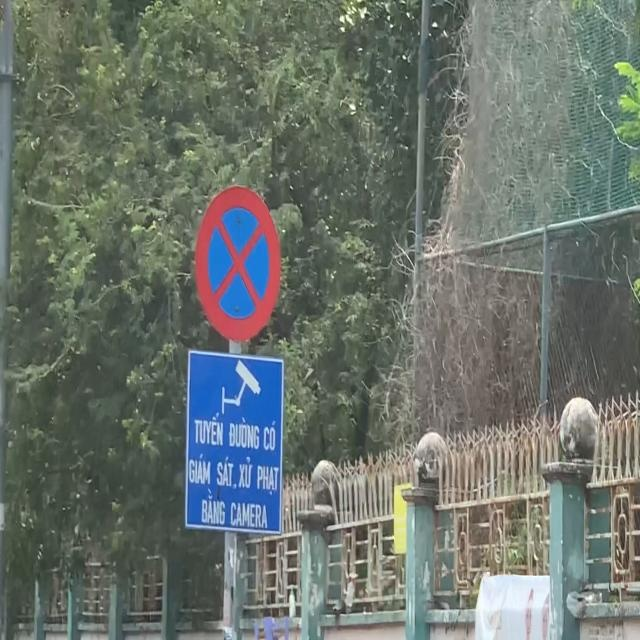bien_chi_dan: (192, 182, 282, 349)
